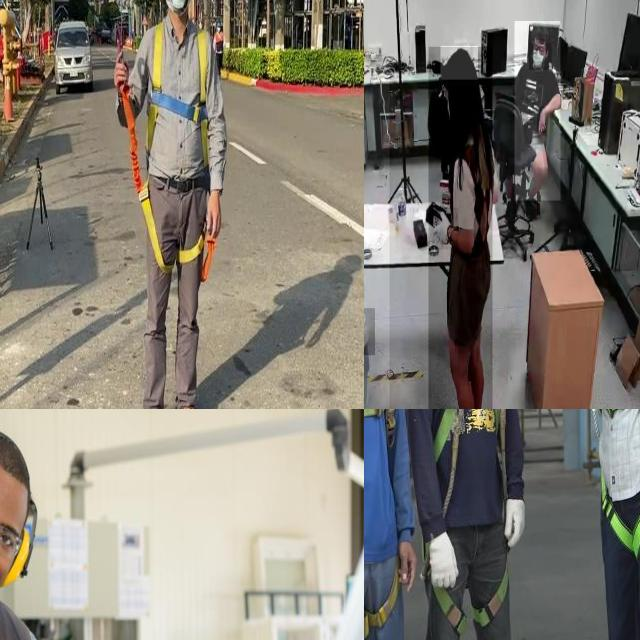Ear-protection: (0, 420, 45, 627)
Harness: (415, 409, 513, 636), (119, 87, 216, 282), (148, 22, 210, 168), (364, 409, 403, 635), (588, 409, 640, 565)
face_mask: (529, 43, 551, 70)
hand_glove: (432, 208, 458, 250), (364, 308, 375, 356)
hand_noglove: (537, 106, 547, 134)
head_nohelmet: (441, 46, 478, 80), (531, 26, 549, 40)
person: (428, 47, 493, 409), (0, 409, 84, 640), (364, 62, 390, 409), (515, 21, 561, 201)
